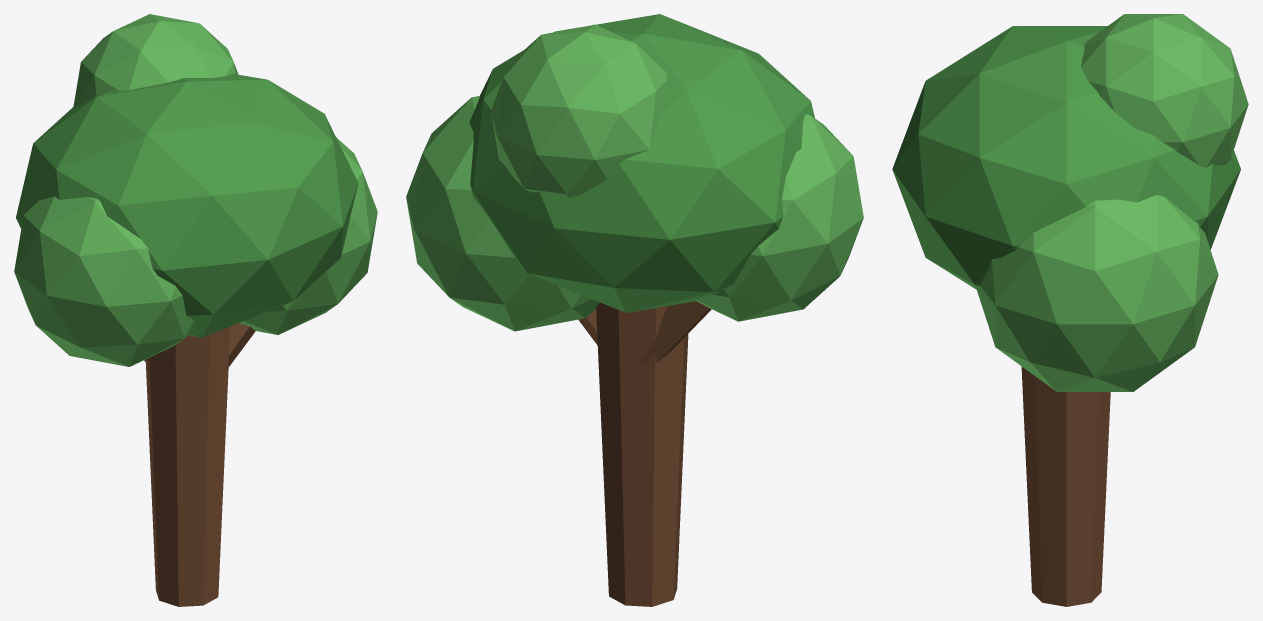
The model's file is tree_oak.glb.
The picture shows the model from 3 angles, left to right: view 1: azimuth 30°, elevation 25°; view 2: azimuth 150°, elevation 25°; view 3: azimuth 270°, elevation 25°; orthographic projection. The views are drawn at different scales.
Parts seen in each view (by area): view 1: tree_oak; view 2: tree_oak; view 3: tree_oak.
Boxes of the visible parts, x1,y1,x2,y2 form: tree_oak: [14, 14, 377, 606]; tree_oak: [406, 14, 863, 606]; tree_oak: [892, 14, 1248, 606].
Size of the model in its own units: 2.81 by 4.05 by 2.25.
